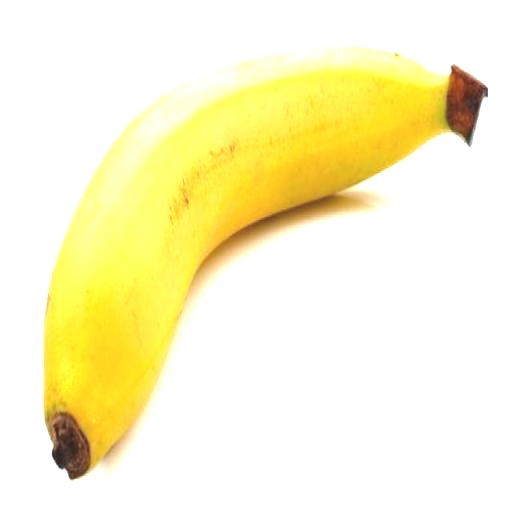fruit: (22, 108, 66, 512)
